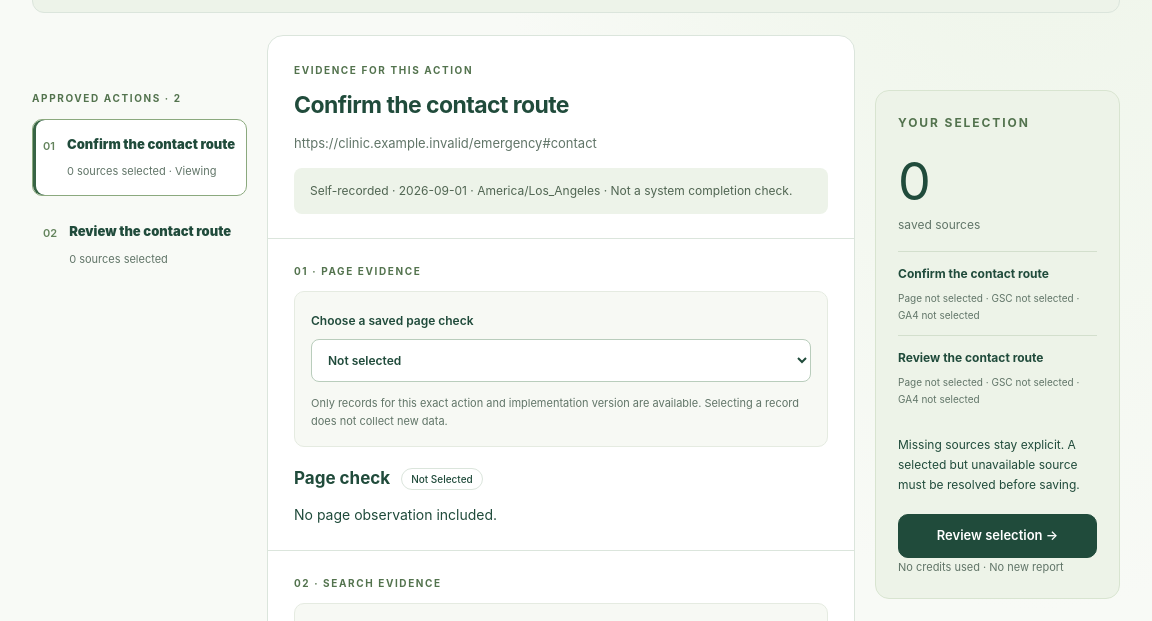
Test case: review workspace interactions › retains choices across actions and clears dependent previous checks
(page scrolled)
Select "2026-12-16 08:00:00 UTC · 00000000" in the dropdown labelled "Choose a saved page check" at (561, 360), box [311, 338, 811, 382]
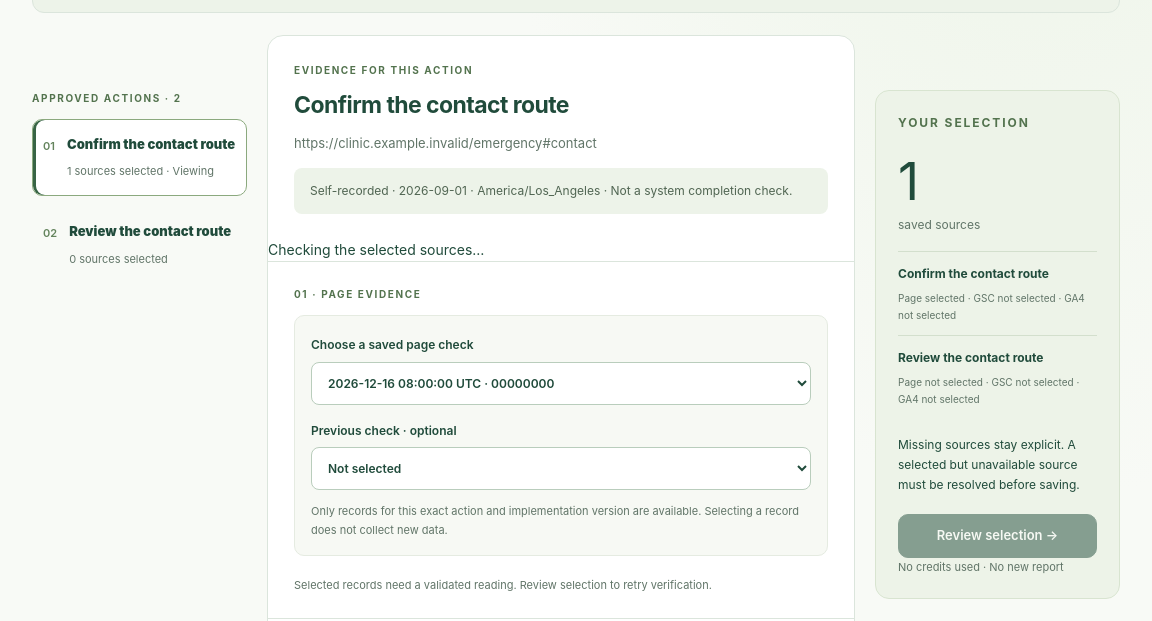
Expected: the dropdown labelled "Previous check · optional" is shown, [311, 447, 811, 490]
Click the button "02 Review the contact route 0 sources selected" at (140, 245), box [32, 206, 247, 284]
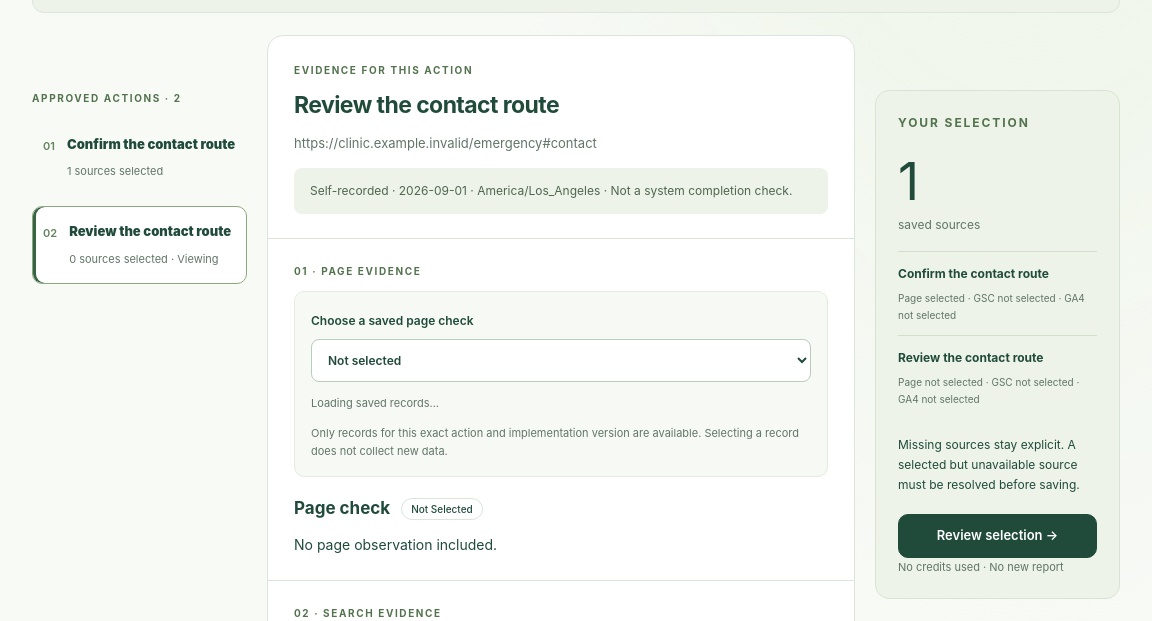
Expected: the dropdown labelled "Choose a saved page check" shows "Not selected", [311, 338, 811, 382]
Click the button "01 Confirm the contact route 1 sources selected" at (140, 157), box [32, 118, 247, 196]
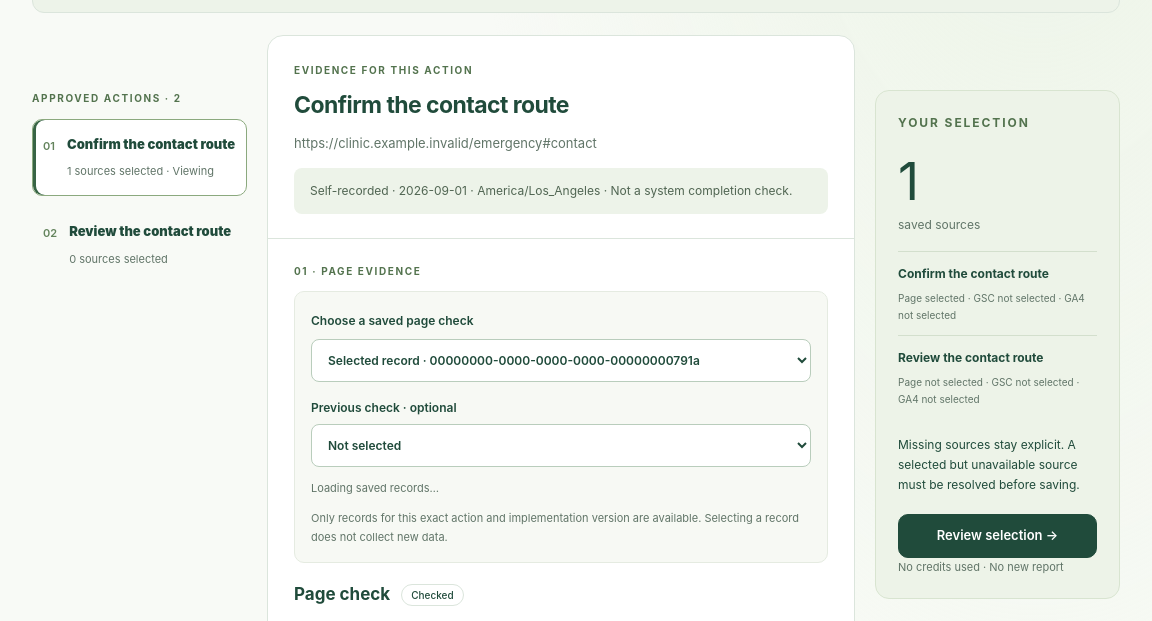
Expected: the dropdown labelled "Choose a saved page check" shows "Selected record · 00000000-0000-0000-0000-00000000791a"
Select "Not selected" in the dropdown labelled "Choose a saved page check" at (561, 360), box [311, 338, 811, 382]
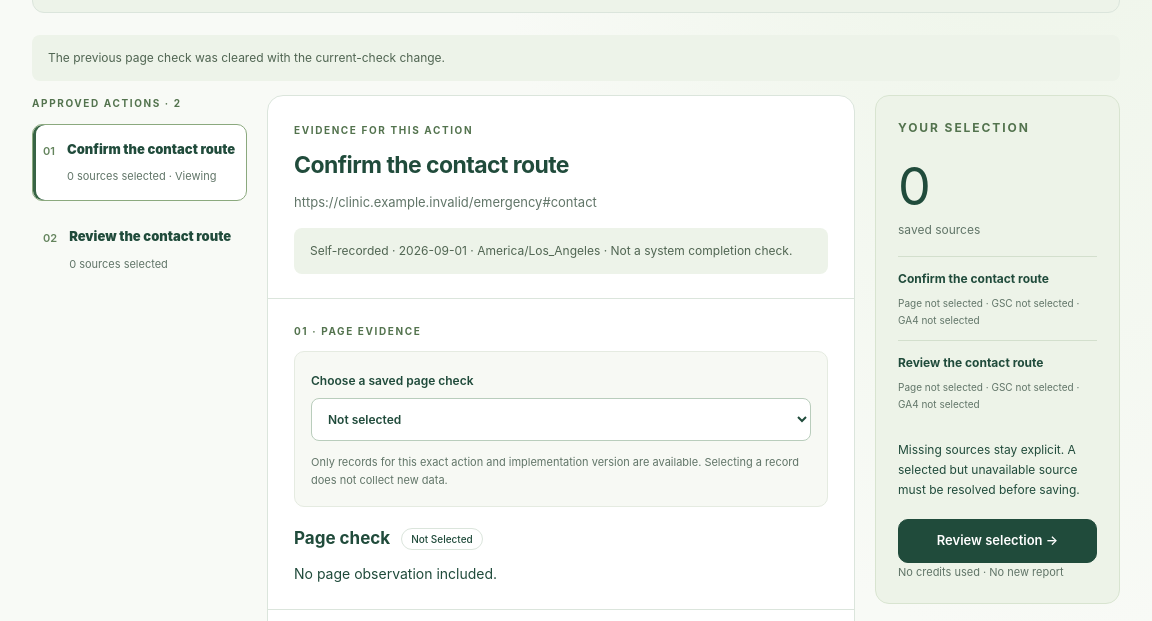
Expected: the label labelled "Previous check · optional" is gone
Expected: the text "The previous page check was cleared with the current-check change." is shown, [32, 35, 1120, 81]
